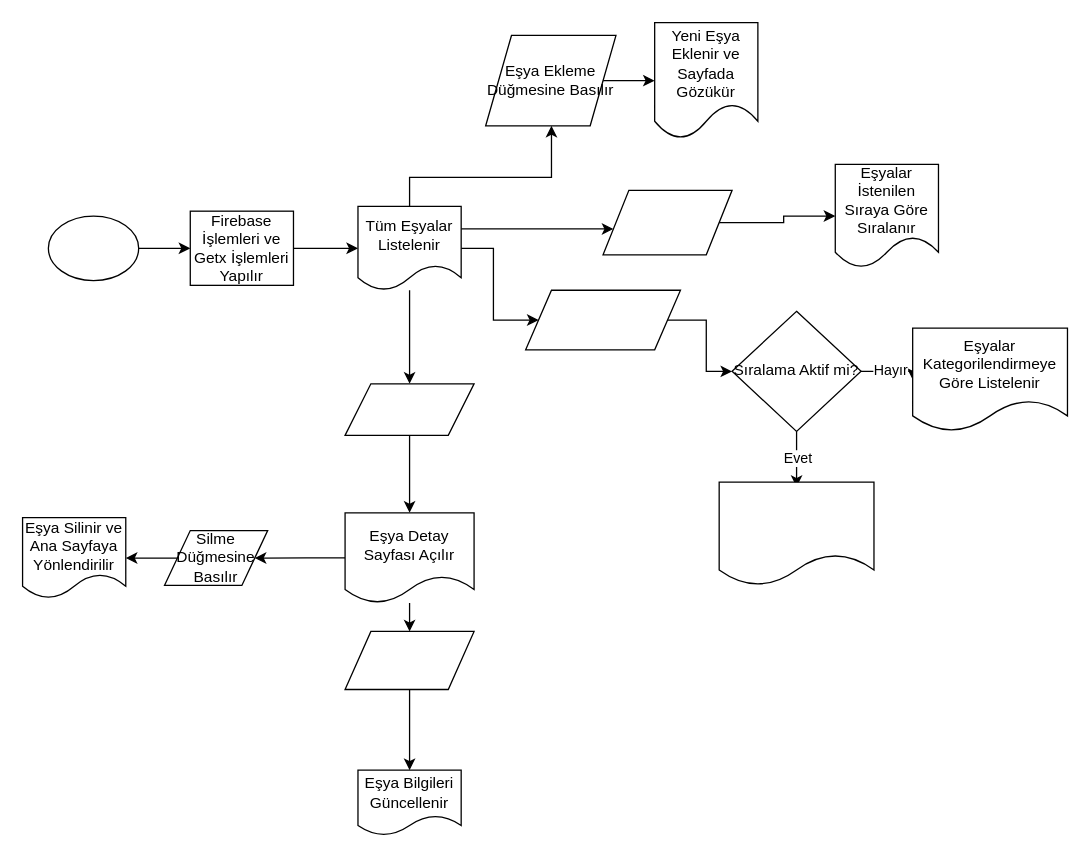
Image size: 1090x858. Some labels were removed from this diagram. The shapes that lost their labels are listed below. From the top down, each one's box as (x1, y1, x2, y2) in pixels, then its label:
(602, 189, 732, 255): Sıralama Yapılır
(47, 215, 139, 281): Uygulama Başlar
(524, 289, 680, 350): Filtreleme Yapılır
(344, 382, 474, 435): Kullanıcı Bir Eşyaya Tıklar
(718, 481, 874, 585): Eşyalar Sıralamaya Uygun, Kategorilendirilmiş Şekilde Listelenir
(344, 630, 474, 690): Düzenleme Düğmesine Basılır
